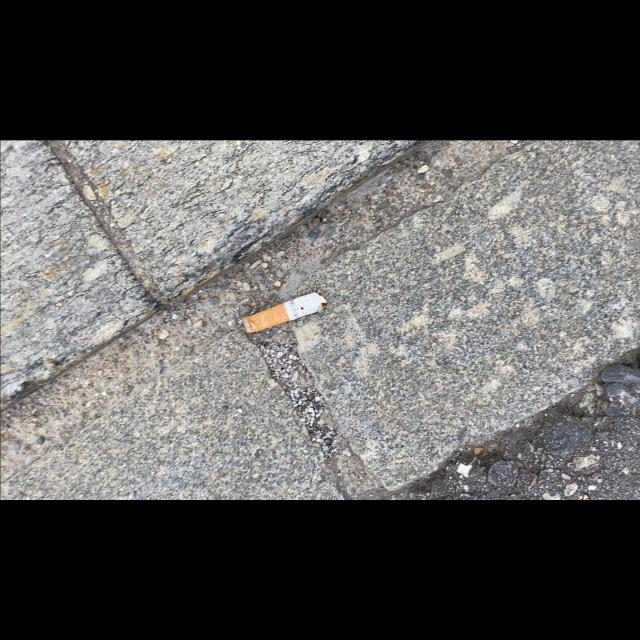cigarette: (241, 289, 328, 333)
